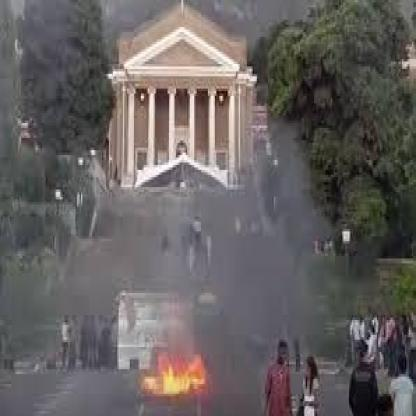fire: (116, 318, 229, 406)
smoke: (72, 87, 335, 315)
